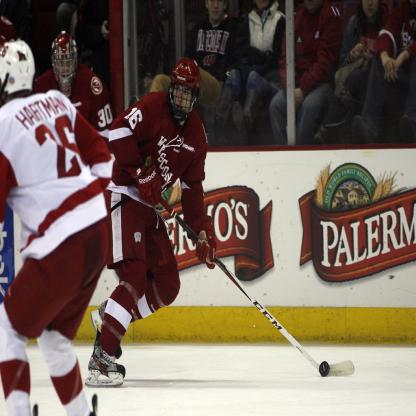Helmet: (0, 34, 36, 100), (168, 60, 204, 125), (49, 29, 80, 97)
